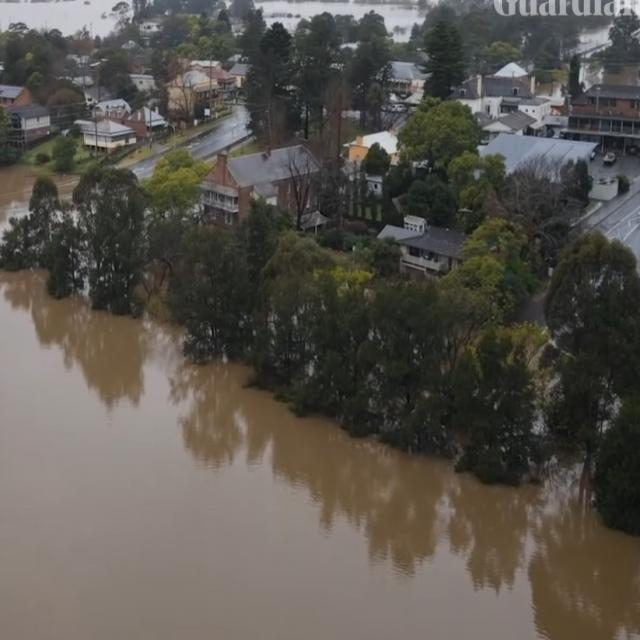flood: (0, 271, 640, 640), (255, 0, 426, 40), (0, 0, 130, 36), (0, 164, 40, 236), (52, 175, 79, 200), (581, 24, 614, 42)
house: (203, 142, 322, 232), (374, 214, 470, 277), (575, 74, 640, 148), (164, 70, 217, 122), (0, 103, 48, 150), (80, 120, 141, 152)
